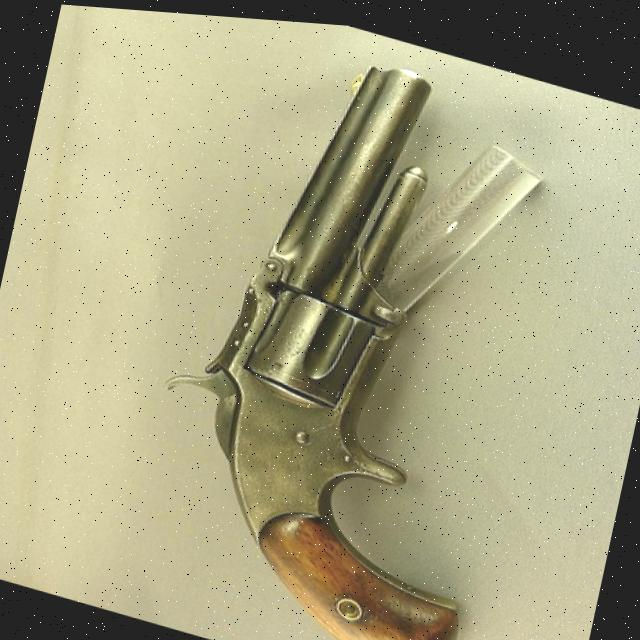pistol: (120, 8, 569, 640)
